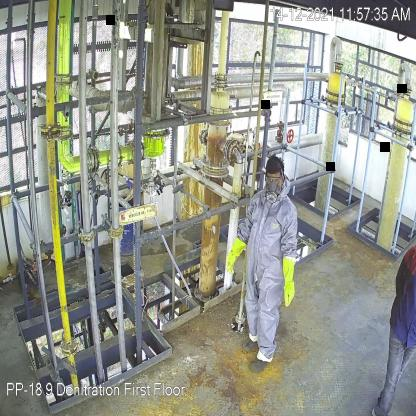goggles: (266, 172, 282, 183)
mask: (266, 183, 281, 203)
